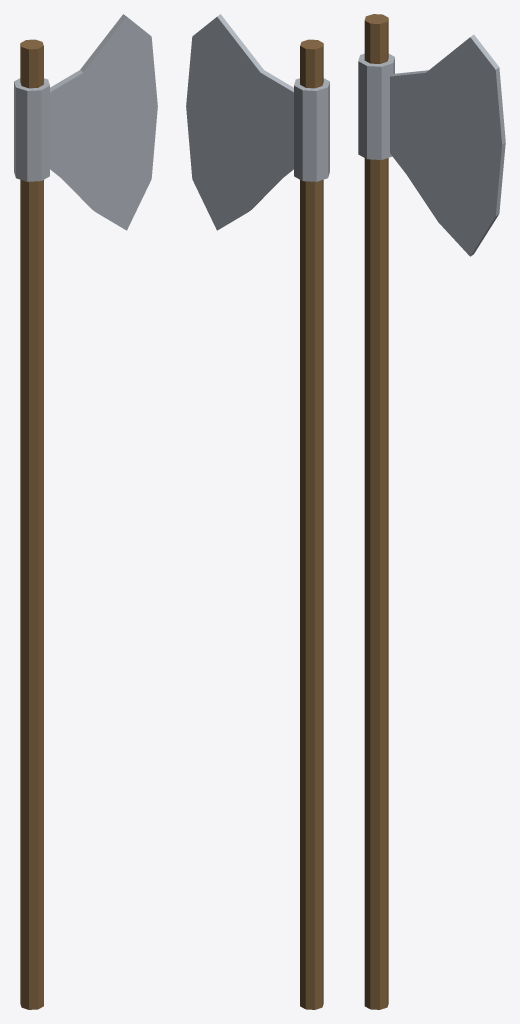
File: Dane_Axe.gltf
The picture shows the model from 3 angles, left to right: view 1: azimuth 30°, elevation 25°; view 2: azimuth 150°, elevation 25°; view 3: azimuth 330°, elevation 25°; orthographic projection. The views are drawn at different scales.
Parts seen in each view (by area): view 1: Cylinder; view 2: Cylinder; view 3: Cylinder.
Boxes of the visible parts, <box> form: Cylinder: <box>14,14,157,1009</box>; Cylinder: <box>186,14,329,1009</box>; Cylinder: <box>358,14,505,1009</box>.
Bounding box in the file's own units: 0.226 × 1.49 × 0.052.
